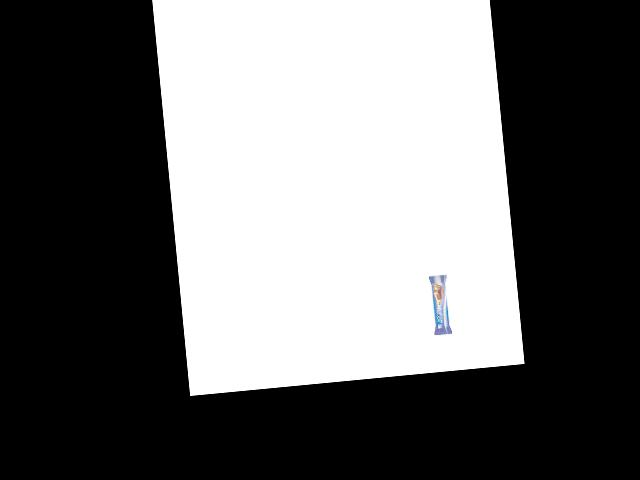chocolate: (422, 266, 453, 337)
